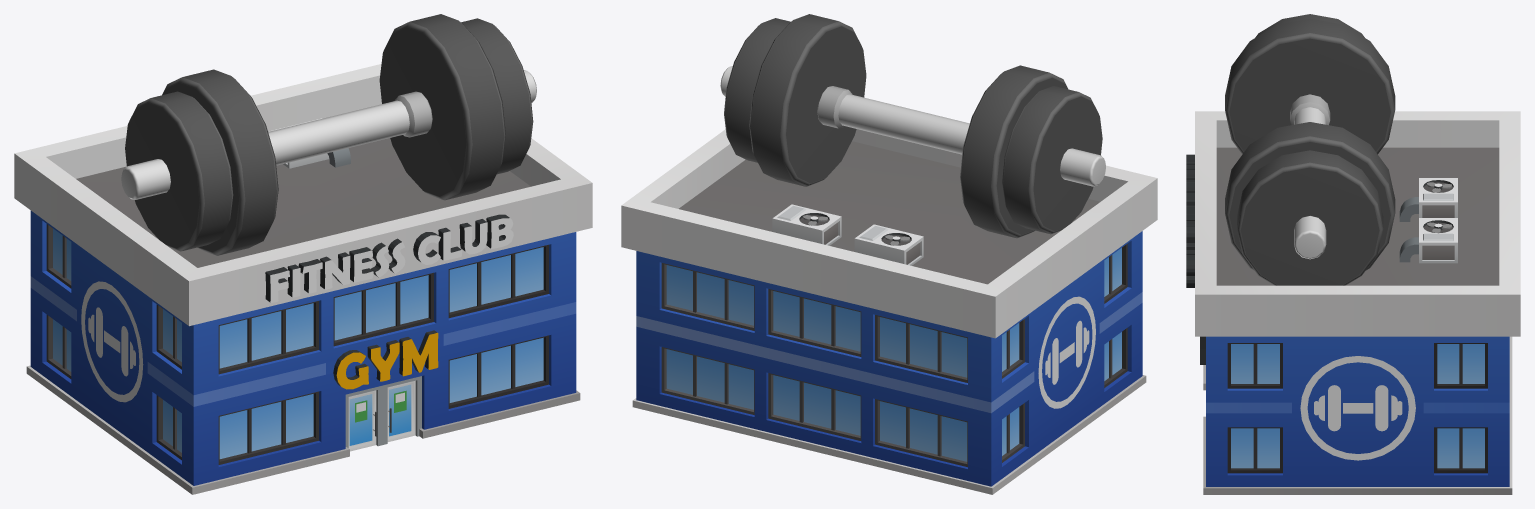
The model's file is gym_001.glb.
3 views of the same model, side by side, from view 1: azimuth 30°, elevation 25°; view 2: azimuth 150°, elevation 25°; view 3: azimuth 270°, elevation 25° (orthographic). The views are drawn at different scales.
Visible parts, largest first — view 1: gym_001; view 2: gym_001; view 3: gym_001.
Boxes of the visible parts, x1=… form: gym_001: x1=14, y1=14, x2=592, y2=494; gym_001: x1=621, y1=14, x2=1157, y2=494; gym_001: x1=1186, y1=14, x2=1520, y2=494.
Bounding box in the file's own units: 16.45 × 13.78 × 12.67.
Materials: 2 (2 with a texture image).
